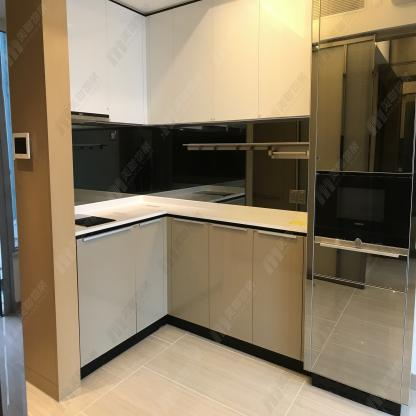Cupboard: (81, 214, 309, 370), (66, 0, 311, 125)
Exhaust Hood: (71, 111, 110, 124), (70, 113, 109, 125)
Oven: (314, 169, 413, 258), (315, 173, 411, 246)
Stove: (75, 213, 116, 228), (76, 216, 113, 227)
